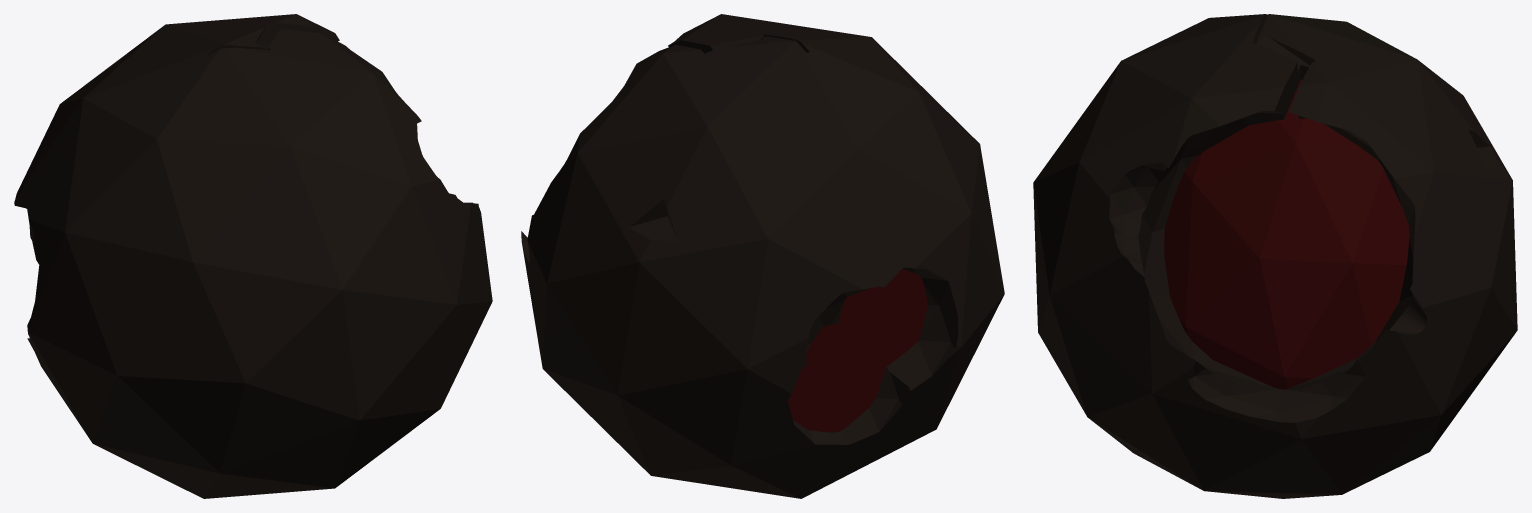
Rendered from dying_planet.obj.
3 views of the same model, side by side, from view 1: azimuth 30°, elevation 25°; view 2: azimuth 150°, elevation 25°; view 3: azimuth 270°, elevation 25° (orthographic). The views are drawn at different scales.
Visible parts, largest first — view 1: base_Icosphere; view 2: base_Icosphere, Cube_Cube.004; view 3: base_Icosphere, core_Icosphere.002.
Boxes of the visible parts, box(x1,y1,x2,y2) form: base_Icosphere: box(14, 14, 492, 498); base_Icosphere: box(521, 14, 1004, 498); Cube_Cube.004: box(788, 269, 927, 432); base_Icosphere: box(1033, 14, 1517, 498); core_Icosphere.002: box(1164, 79, 1409, 389).
Bounding box in the file's own units: 10.65 × 10.97 × 10.61.
